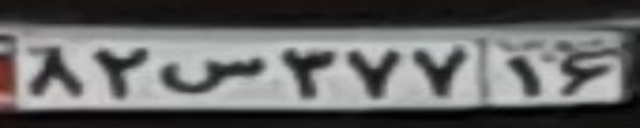1: (509, 52, 541, 97)
2: (88, 44, 149, 98)
3: (284, 48, 333, 98)
6: (554, 48, 613, 95)
7: (412, 42, 476, 100), (347, 45, 399, 101)
8: (31, 45, 84, 98)
sin: (160, 52, 261, 92)
